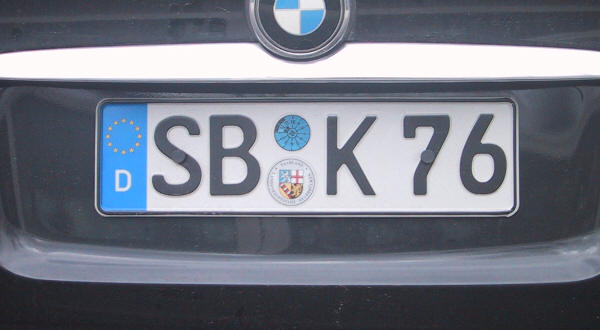license_plate: (93, 96, 521, 218)
